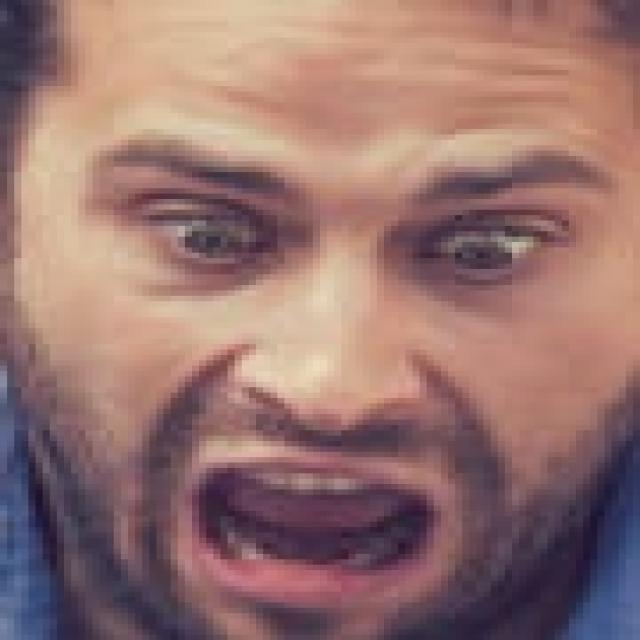Anxiety: (4, 0, 633, 635)
